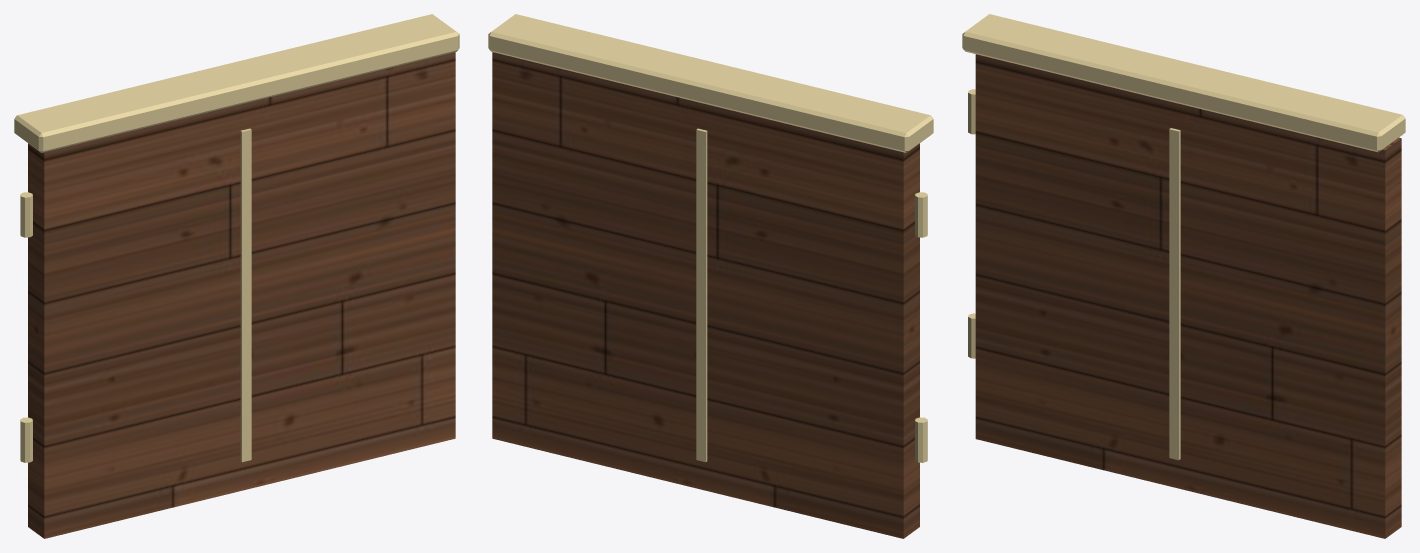
Rendered from gate_c.glb.
The picture shows the model from 3 angles, left to right: view 1: azimuth 30°, elevation 25°; view 2: azimuth 150°, elevation 25°; view 3: azimuth 330°, elevation 25°; orthographic projection.
Parts seen in each view (by area): view 1: gate_c_walnut, gate_c_gold; view 2: gate_c_walnut, gate_c_gold; view 3: gate_c_walnut, gate_c_gold.
Part boxes in pixels (x1=…): gate_c_walnut: x1=28, y1=52, x2=455, y2=538; gate_c_gold: x1=14, y1=14, x2=459, y2=462; gate_c_walnut: x1=492, y1=52, x2=919, y2=538; gate_c_gold: x1=488, y1=14, x2=933, y2=462; gate_c_walnut: x1=975, y1=54, x2=1401, y2=538; gate_c_gold: x1=962, y1=14, x2=1405, y2=460.
Bounding box in the file's own units: 0.892 × 0.82 × 0.1.
Materials: 2 (1 with a texture image).
